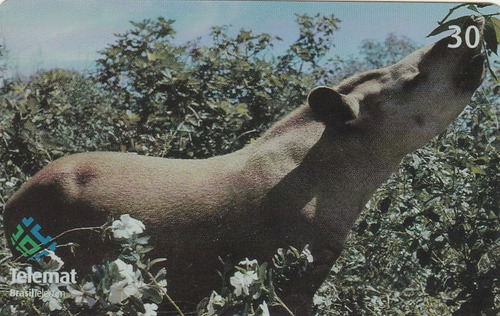Anta: (8, 35, 486, 294)
